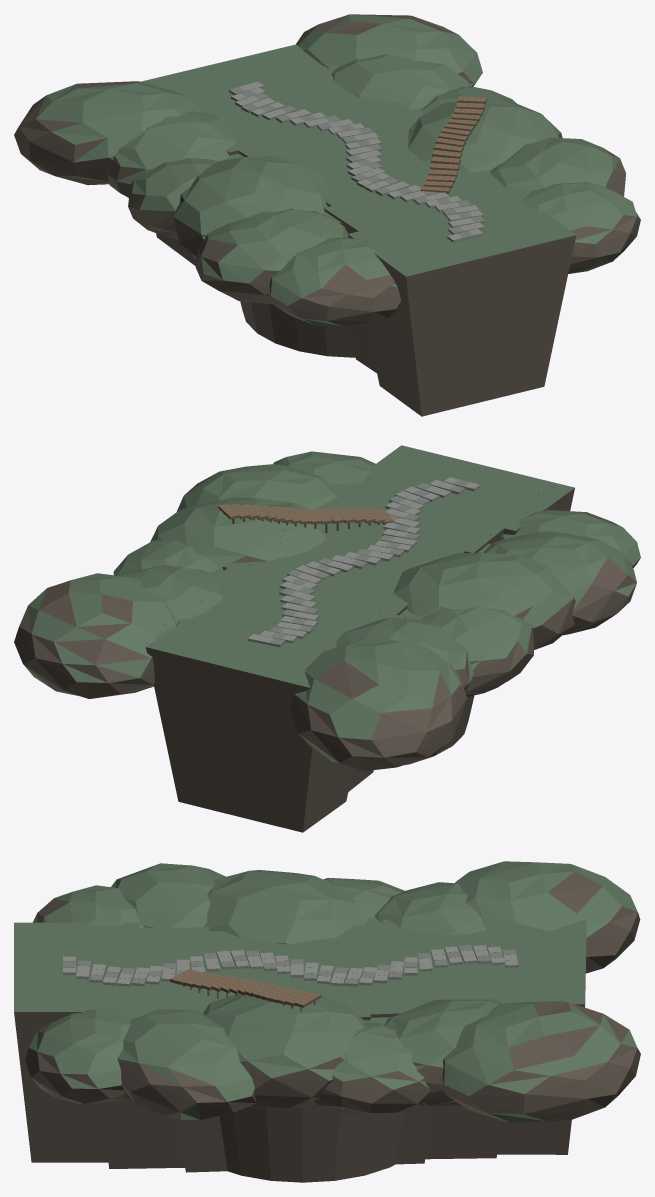
Rendered from world12-terrain-v1.glb.
The picture shows the model from 3 angles, top to bottom: view 1: azimuth 30°, elevation 25°; view 2: azimuth 150°, elevation 25°; view 3: azimuth 270°, elevation 25°; orthographic projection. The views are drawn at different scales.
Parts seen in each view (by area): view 1: w12-continuous-earth, w12-stone-warmgray, w12-stone-dark, w12-wood-weathered, w12-wood-endgrain; view 2: w12-continuous-earth, w12-stone-warmgray, w12-stone-dark, w12-wood-weathered, w12-wood-endgrain; view 3: w12-continuous-earth, w12-stone-warmgray, w12-stone-dark, w12-wood-weathered, w12-wood-endgrain.
Boxes of the visible parts, x1,y1,x2,y2 form: w12-continuous-earth: [14, 14, 640, 416]; w12-stone-warmgray: [231, 81, 484, 240]; w12-stone-dark: [229, 84, 485, 242]; w12-wood-weathered: [419, 96, 486, 195]; w12-wood-endgrain: [420, 96, 486, 195]; w12-continuous-earth: [14, 445, 640, 832]; w12-stone-warmgray: [248, 477, 479, 642]; w12-stone-dark: [248, 479, 480, 647]; w12-wood-weathered: [219, 504, 397, 522]; w12-wood-endgrain: [218, 505, 395, 533]; w12-continuous-earth: [14, 861, 640, 1182]; w12-stone-warmgray: [63, 945, 518, 983]; w12-stone-dark: [63, 945, 518, 986]; w12-wood-weathered: [171, 969, 320, 1004]; w12-wood-endgrain: [170, 972, 321, 1011].
Size of the model in its own units: 72.57 by 29.27 by 85.93.
